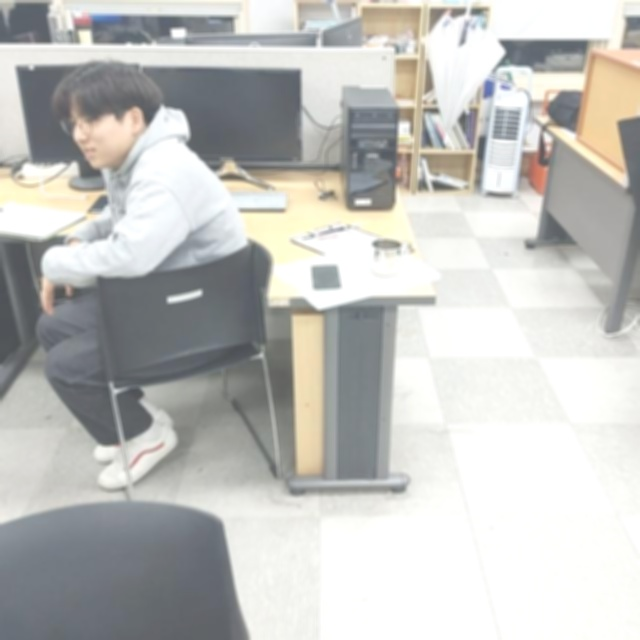cup: (371, 238, 416, 277)
phone: (310, 262, 342, 293)
